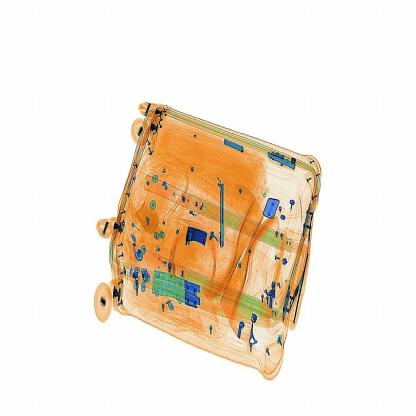pliers: (206, 171, 236, 254)
